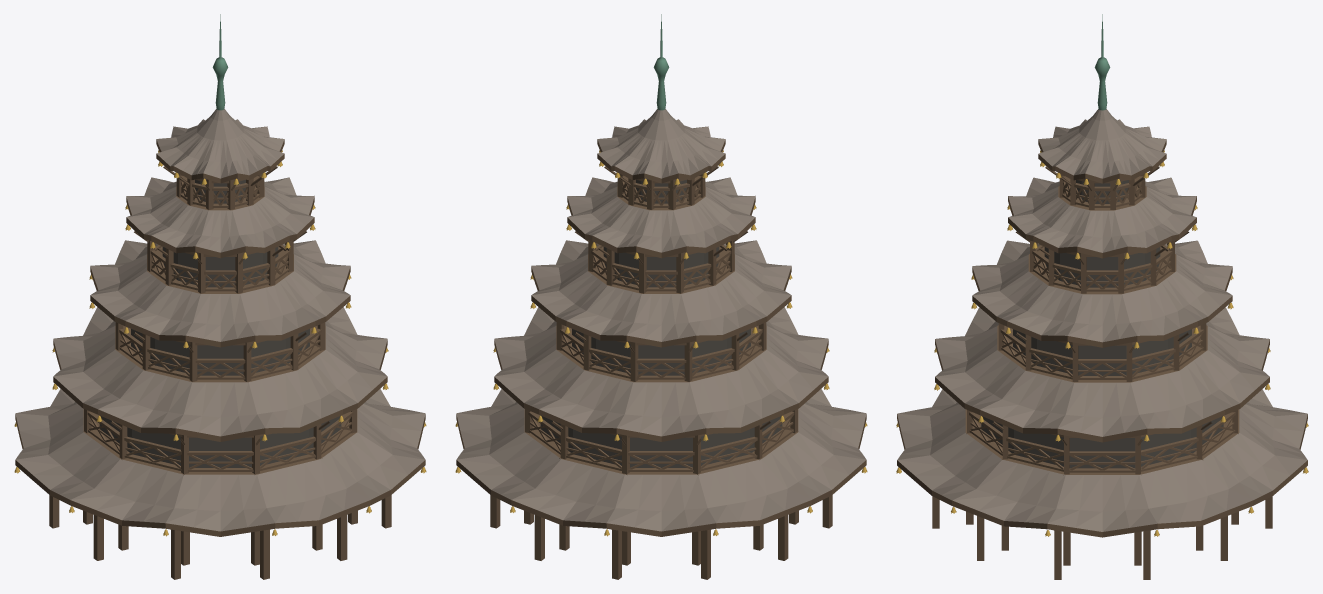
The model's file is munich-chinesischer-turm.detail.glb.
The picture shows the model from 3 angles, left to right: view 1: azimuth 30°, elevation 25°; view 2: azimuth 150°, elevation 25°; view 3: azimuth 270°, elevation 25°; orthographic projection.
Parts seen in each view (by area): view 1: Chinesischer Turm; view 2: Chinesischer Turm; view 3: Chinesischer Turm.
Boxes of the visible parts, x1=… form: Chinesischer Turm: x1=14, y1=14, x2=426, y2=579; Chinesischer Turm: x1=455, y1=14, x2=867, y2=579; Chinesischer Turm: x1=896, y1=14, x2=1308, y2=579.
Bounding box in the file's own units: 18.96 × 25 × 18.92.
